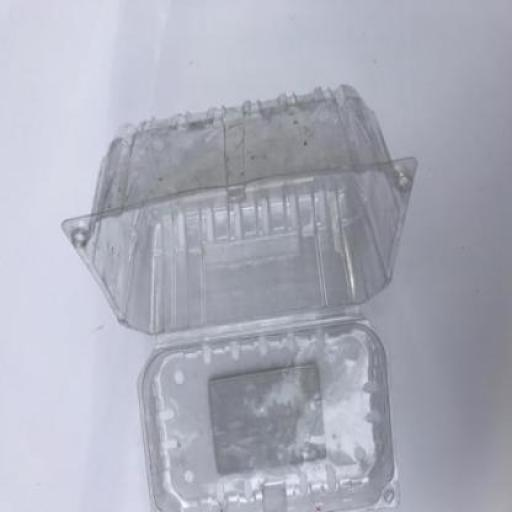plastic: (60, 84, 418, 510), (60, 87, 418, 339), (134, 311, 401, 511)
